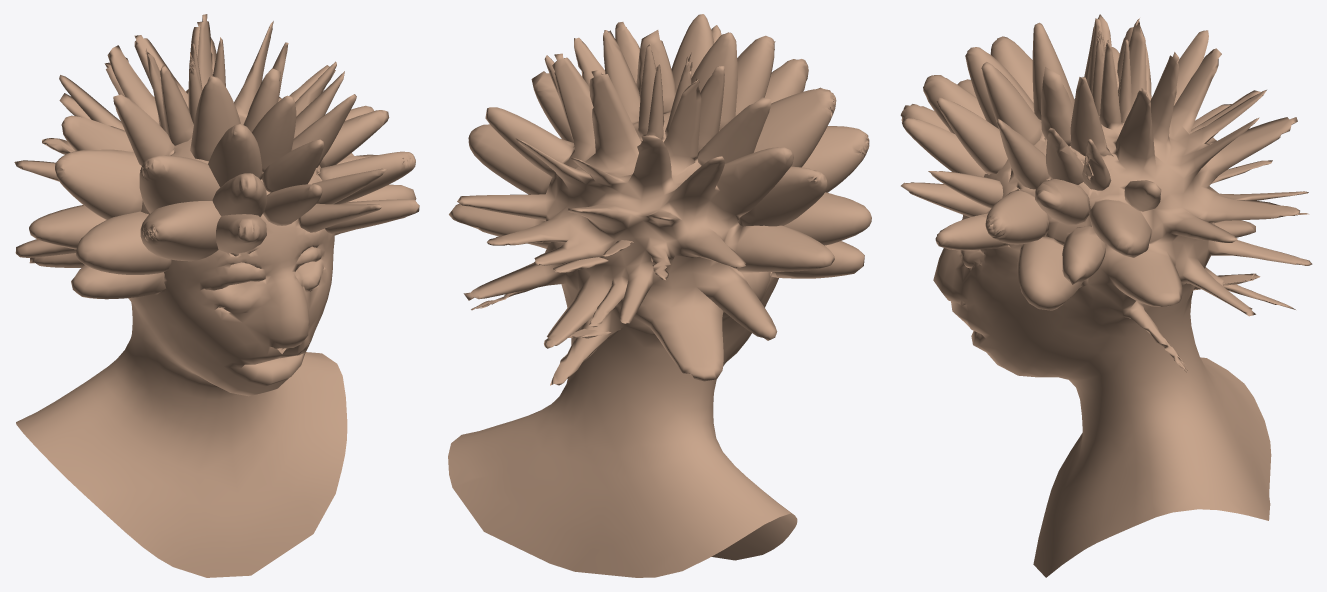
File: lisa.fbx
3 views of the same model, side by side, from view 1: azimuth 30°, elevation 25°; view 2: azimuth 150°, elevation 25°; view 3: azimuth 270°, elevation 25° (orthographic). The views are drawn at different scales.
Visible parts, largest first — view 1: basicHead-retopo 1; view 2: basicHead-retopo 1; view 3: basicHead-retopo 1.
Boxes of the visible parts, x1,y1,x2,y2 form: basicHead-retopo 1: (14,14,419,577); basicHead-retopo 1: (448,14,871,577); basicHead-retopo 1: (900,14,1312,577).
Size of the model in its own units: 166 by 236 by 167.
